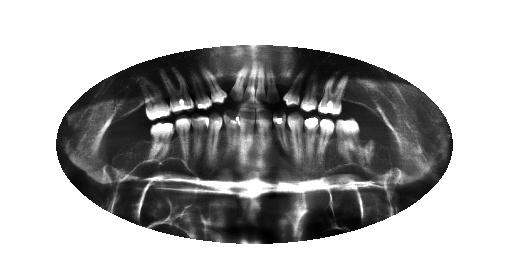i10chipped: (225, 111, 238, 178)
i11healthy: (209, 113, 224, 173)
i12decay: (192, 114, 209, 171)
i13healthy: (176, 115, 192, 175)
i14healthy: (151, 118, 175, 174)
i15loss: (133, 129, 150, 177)
i16loss: (110, 136, 134, 177)
i1loss: (376, 140, 392, 179)
i2loss: (359, 126, 375, 176)
i3healthy: (336, 116, 360, 175)
i4healthy: (320, 116, 337, 175)
i5healthy: (303, 114, 320, 174)
i6healthy: (288, 111, 304, 178)
i7chipped: (273, 110, 288, 174)
i8decay: (256, 107, 272, 180)
i9decay: (238, 106, 256, 179)
u10decay: (232, 66, 249, 105)
u11loss: (222, 67, 236, 107)
u12healthy: (210, 64, 228, 106)
u13healthy: (192, 65, 212, 109)
u14healthy: (168, 73, 192, 116)
u15healthy: (142, 81, 169, 122)
u16loss: (122, 93, 145, 132)
u1loss: (361, 87, 379, 119)
u2loss: (342, 82, 360, 119)
u3healthy: (321, 69, 347, 118)
u4healthy: (302, 71, 319, 112)
u5healthy: (285, 73, 304, 109)
u6loss: (280, 67, 289, 107)
u7decay: (267, 66, 280, 104)
u8decay: (257, 64, 268, 109)
u9decay: (244, 67, 257, 105)
